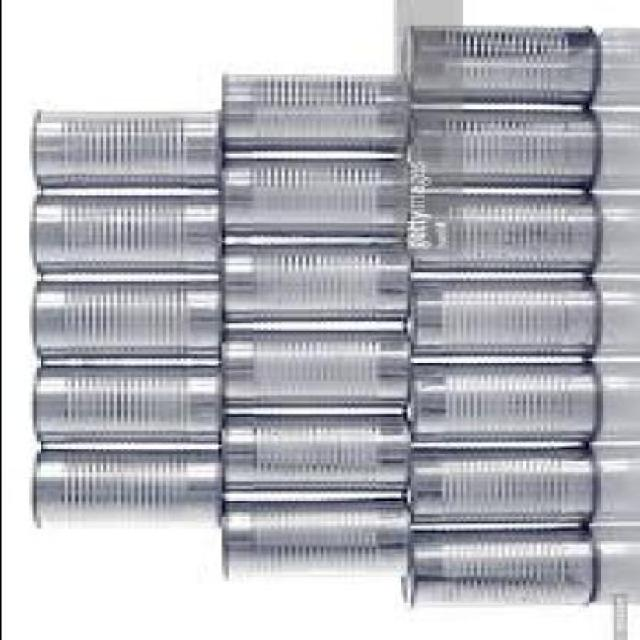METAL: (398, 112, 598, 192), (406, 364, 602, 444), (402, 446, 598, 526), (396, 30, 598, 107), (398, 530, 596, 608), (213, 244, 405, 324), (28, 282, 217, 363), (406, 282, 606, 358), (406, 198, 602, 274), (217, 77, 409, 154), (28, 368, 217, 444), (213, 417, 405, 491), (32, 114, 216, 191), (213, 163, 402, 237), (217, 333, 406, 407), (32, 452, 216, 528), (213, 502, 402, 575), (32, 198, 210, 274)
